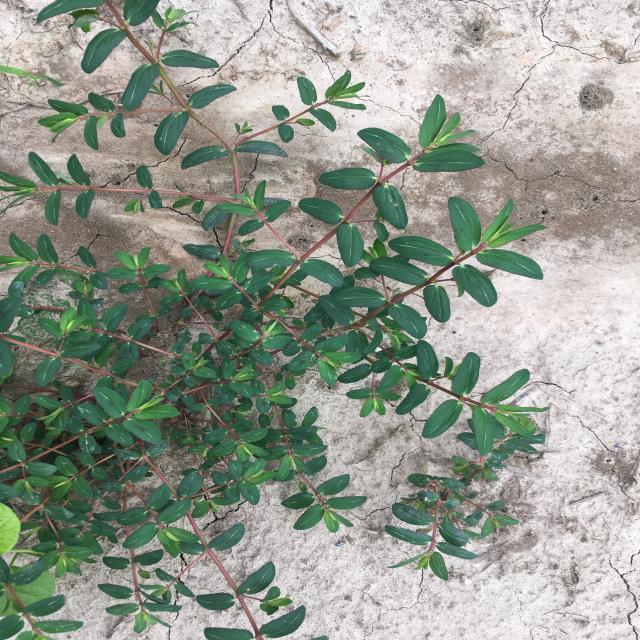SpottedSpurge: (0, 0, 547, 639), (385, 414, 546, 581)
